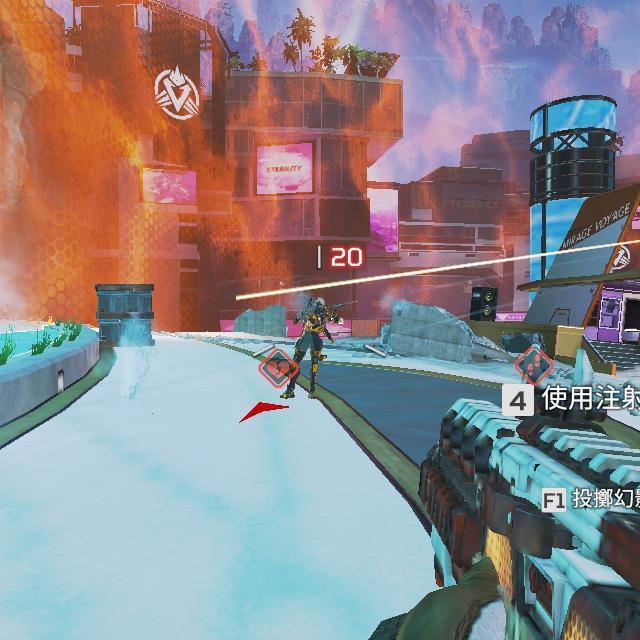avatar: (286, 297, 334, 400)
